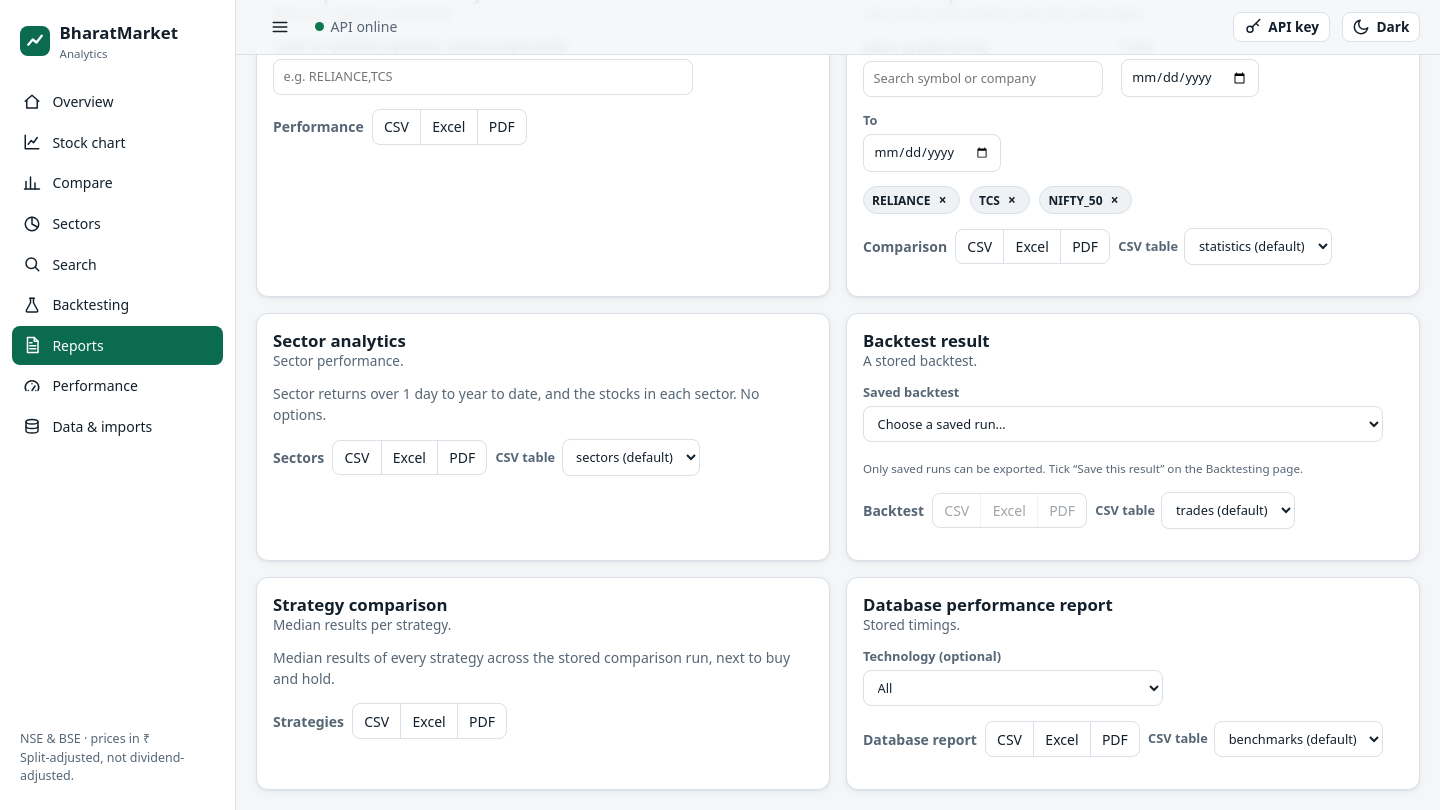
Scenario: Reports page › exports only a saved backtest, chosen from the list
Later steps or results of the test are not shown.
(page scrolled)
expect the button with aria-label "Backtest as CSV" is disabled: met, box [933,494,981,527]
Select "Ema Crossover on RELIANCE (1d), saved 22 Nov 2026, 15:30 IST" in the dropdown labelled "Saved backtest": [1123, 424] box [863,406,1383,442]
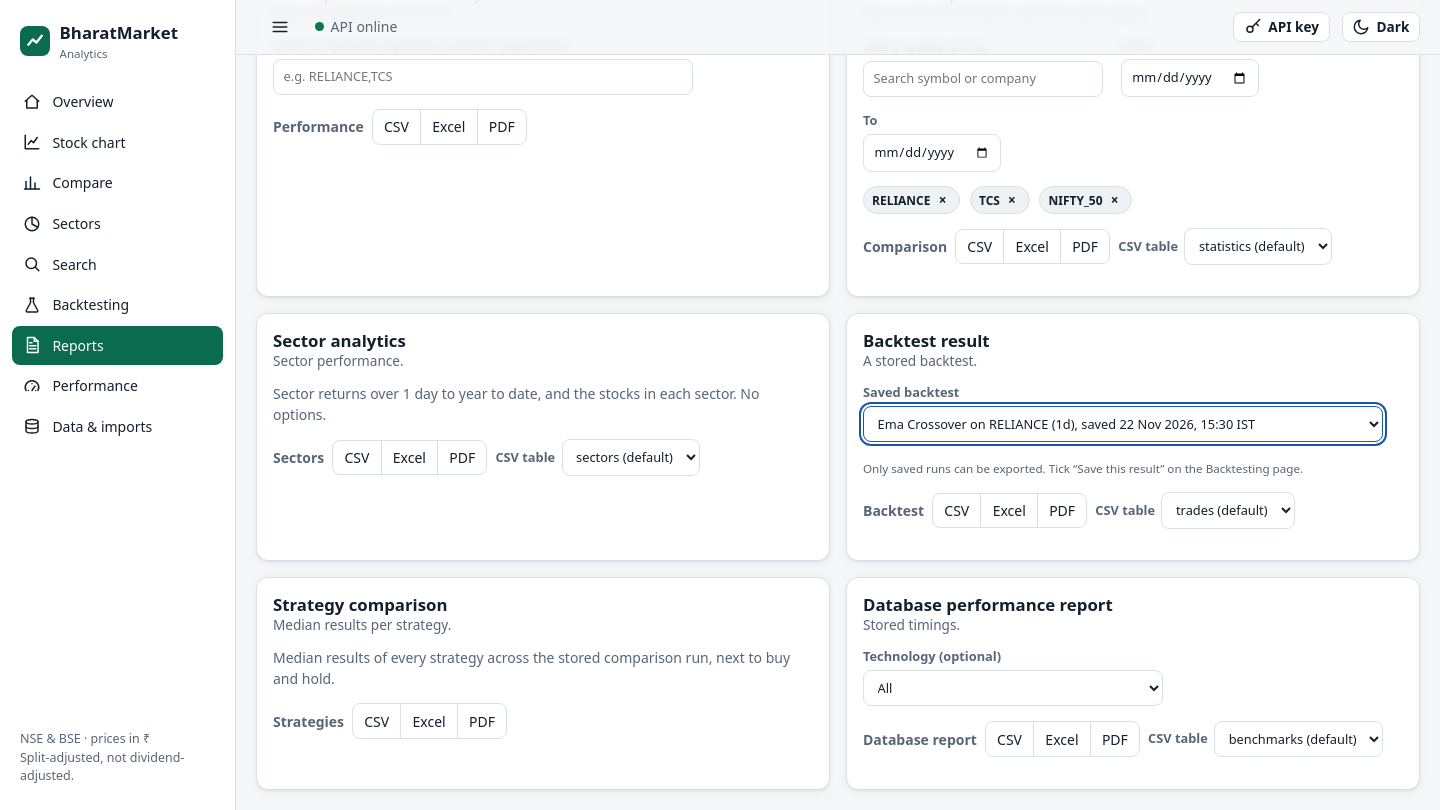
expect the button with aria-label "Backtest as CSV" is enabled: met, box [933,494,981,527]
